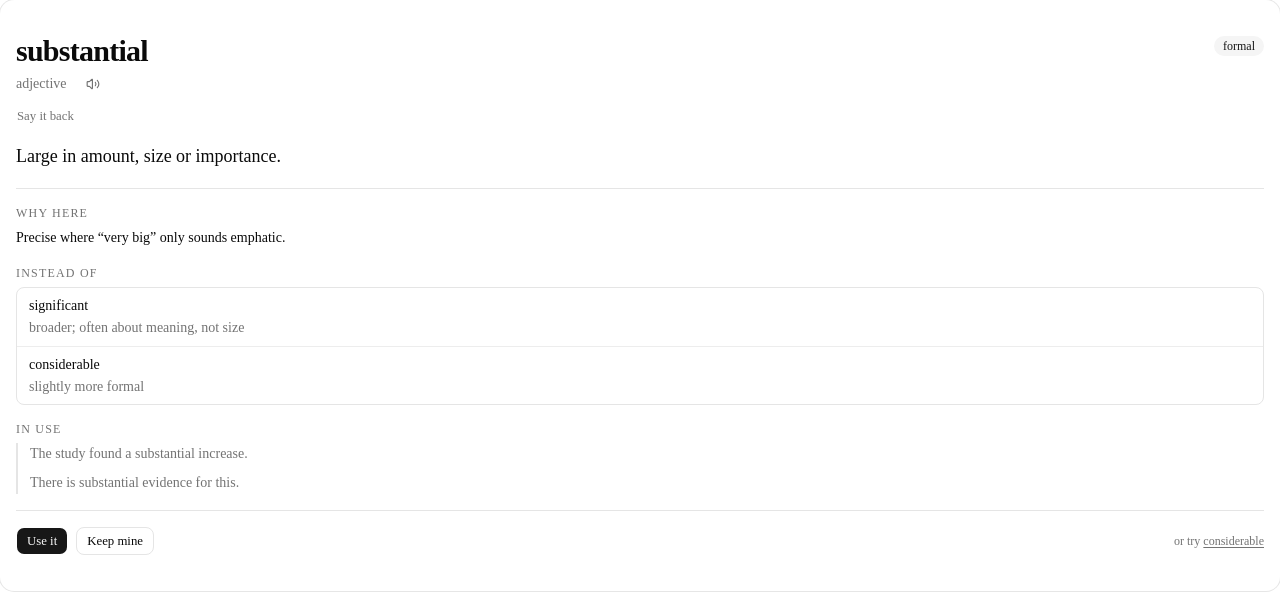
WordCard saving a looked-up word › hearing the word › says so rather than going quiet when it cannot play at all
Click the button with test id "pronounce": click(92, 84) [74, 70, 110, 98]
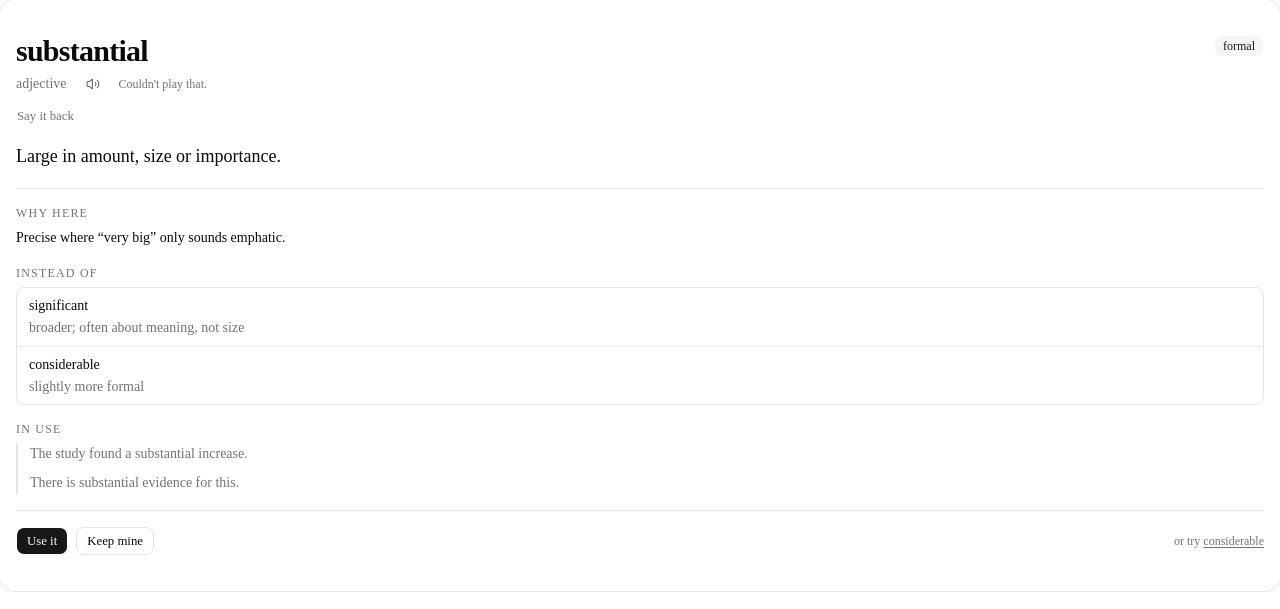
Result: the text "Couldn't play that." is shown at [118, 76, 207, 92]
